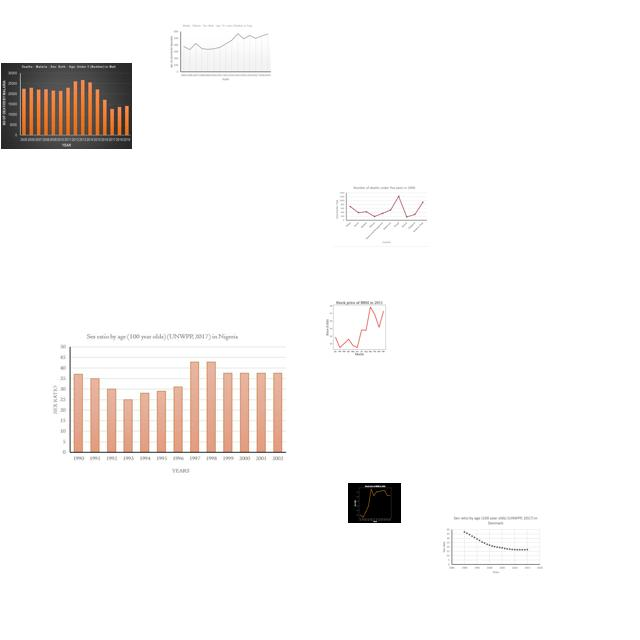Graph: (51, 329, 291, 476), (1, 63, 132, 149), (168, 22, 272, 83), (440, 515, 544, 576), (333, 184, 429, 247), (320, 298, 397, 356), (348, 483, 401, 523)
